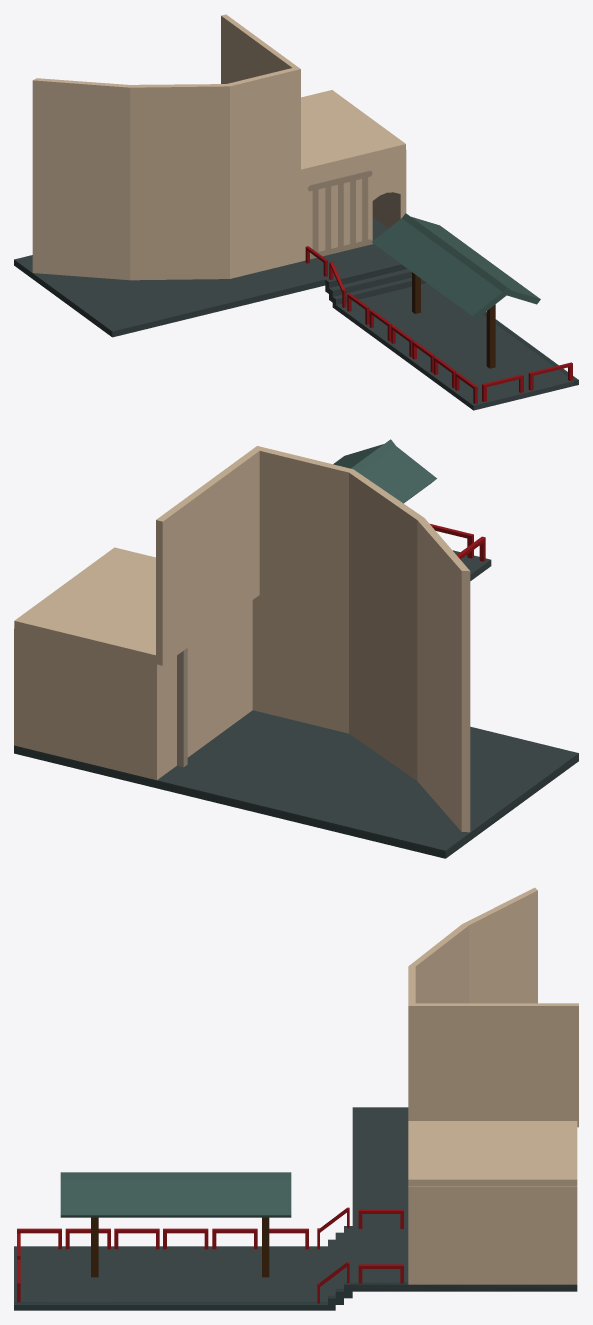
File: station.fbx
3 views of the same model, one above another, from view 1: azimuth 30°, elevation 25°; view 2: azimuth 150°, elevation 25°; view 3: azimuth 270°, elevation 25° (orthographic). The views are drawn at different scales.
Visible parts, largest first — view 1: Cube; view 2: Cube; view 3: Cube.
Part boxes in pixels (x1,y1,x2,y2): Cube: [14, 14, 578, 410]; Cube: [14, 439, 578, 858]; Cube: [14, 887, 578, 1310].
Size of the model in its own units: 11172 by 7214 by 15033.
1 material, 1 textured.
